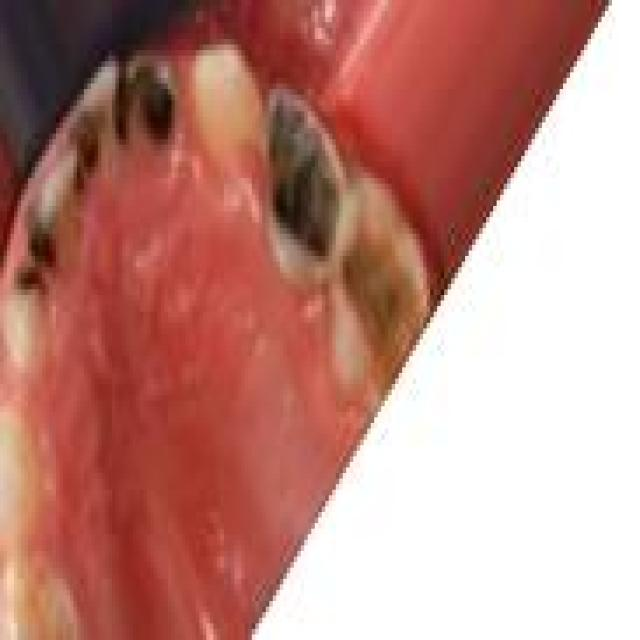caries: (322, 161, 418, 368), (250, 81, 344, 273), (8, 185, 78, 318), (66, 51, 125, 191), (124, 48, 185, 153)
